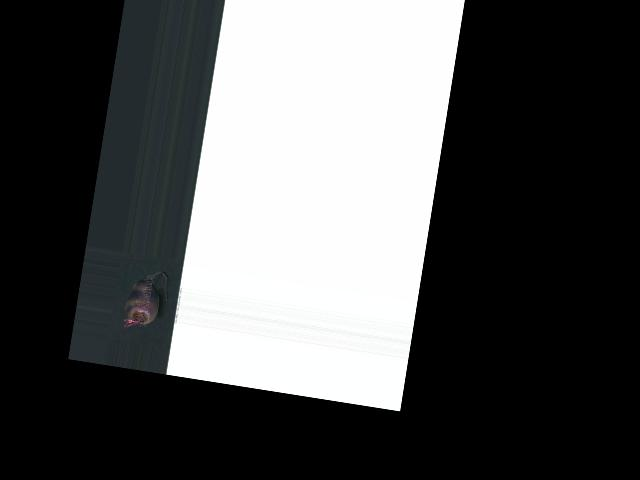beet: (121, 267, 171, 335)
